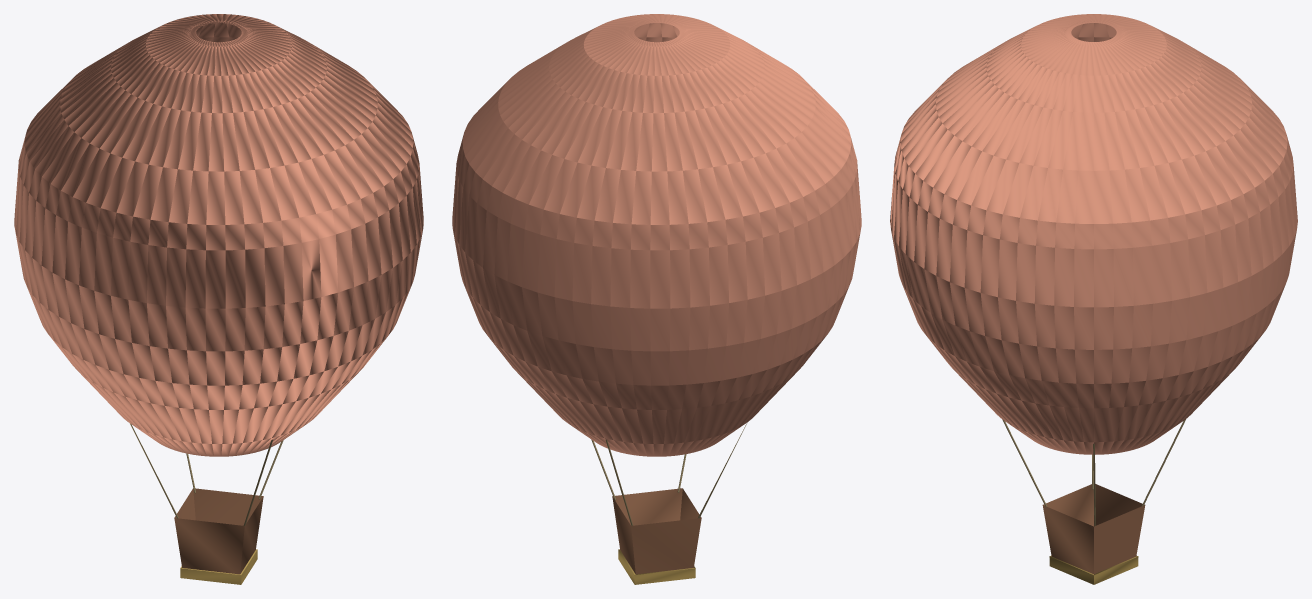
The model's file is hotairballon.fbx.
3 views of the same model, side by side, from view 1: azimuth 30°, elevation 25°; view 2: azimuth 150°, elevation 25°; view 3: azimuth 270°, elevation 25° (orthographic).
Visible parts, largest first — view 1: hotairballonnew; view 2: hotairballonnew; view 3: hotairballonnew.
Boxes of the visible parts, x1,y1,x2,y2 form: hotairballonnew: (14,14,423,584); hotairballonnew: (452,14,861,584); hotairballonnew: (890,14,1297,584).
Bounding box in the file's own units: 298 × 430 × 298.
